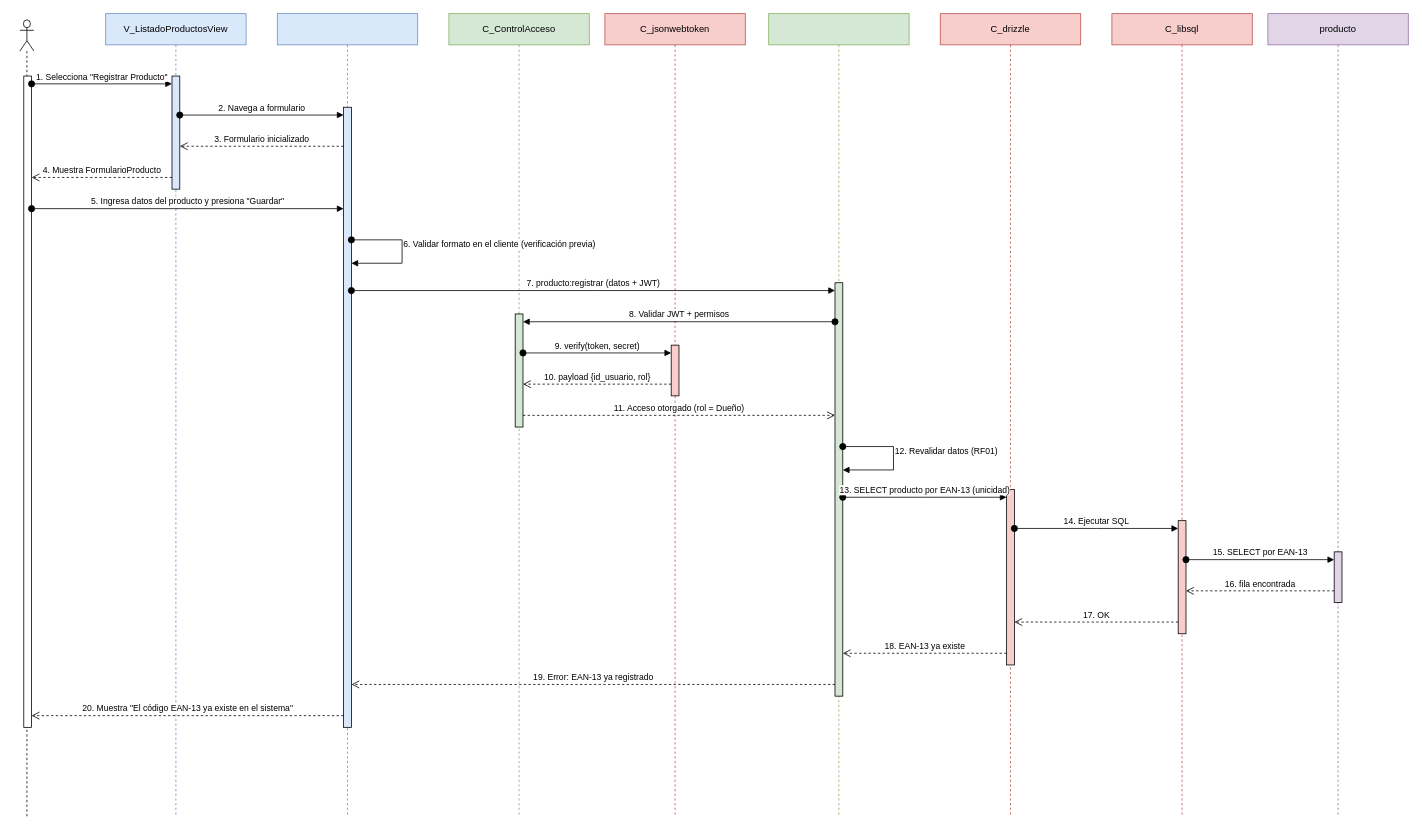
Image size: 1422x831. Some labels were removed from this diagram. Each missing label, with the box of its shape:
C_RegistrarProductoHandler: (768, 13, 909, 817)
Dueño: (19, 19, 34, 817)
V_FormularioProductoView: (277, 13, 418, 817)
